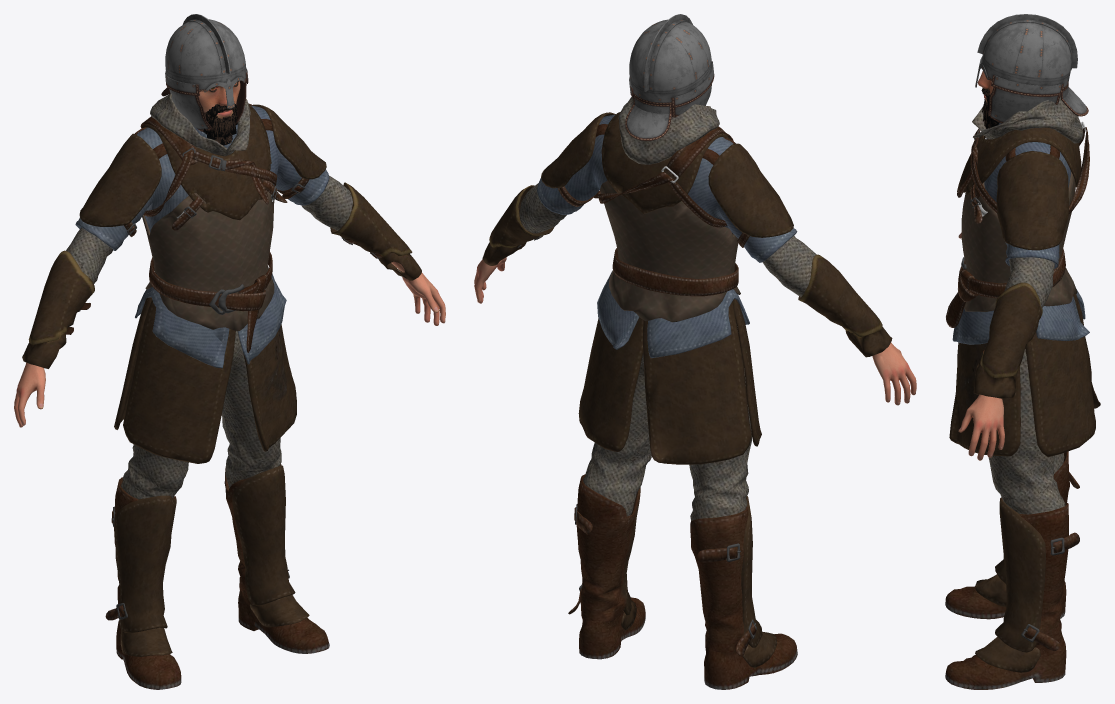
The picture shows the model from 3 angles, left to right: view 1: azimuth 30°, elevation 25°; view 2: azimuth 150°, elevation 25°; view 3: azimuth 270°, elevation 25°; orthographic projection. The views are drawn at different scales.
Parts seen in each view (by area): view 1: Player.002_1, burgh_helmet_0; view 2: Player.002_1, burgh_helmet_0; view 3: Player.002_1, burgh_helmet_0.
Boxes of the visible parts, box(x1,y1,x2,y2) form: Player.002_1: box(14, 81, 445, 689); burgh_helmet_0: box(161, 14, 248, 131); Player.002_1: box(474, 97, 916, 689); burgh_helmet_0: box(625, 14, 714, 140); Player.002_1: box(945, 71, 1100, 689); burgh_helmet_0: box(975, 14, 1088, 123).
Size of the model in its own units: 1.32 by 1.85 by 0.4138.
Materials: 5 (5 with a texture image).
